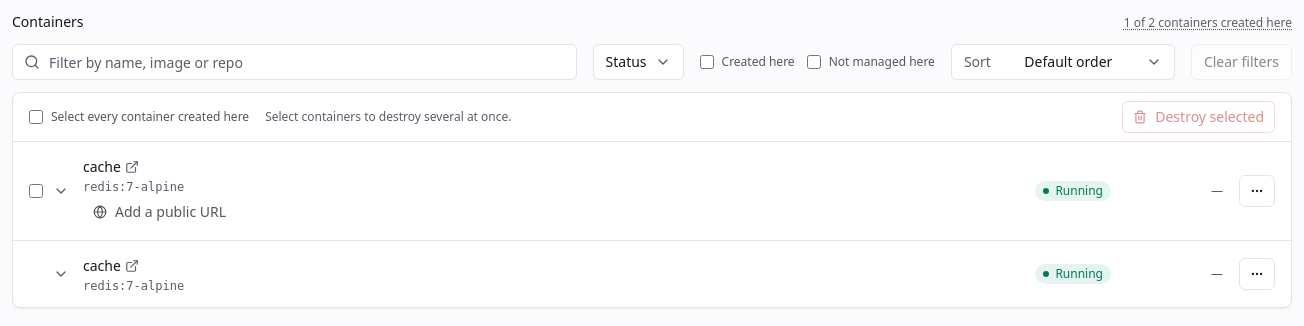
Test case: ContainerList › the usage total › states the environment total beside it, which is what makes it legible
The image size is (1304, 326).
Hover over the button "1 of 2 containers created here" at (1208, 23), box x1=1124 y1=15 x2=1292 y2=31
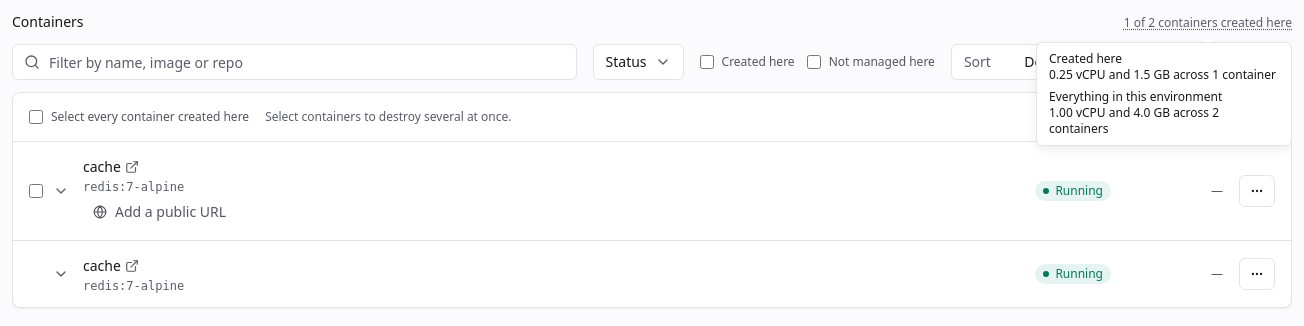
expect the text "Everything in this environment" is shown: met, box x1=1049 y1=88 x2=1222 y2=105
expect the text "1.00 vCPU and 4.0 GB across 2 containers" is shown: met, box x1=1049 y1=104 x2=1219 y2=137
